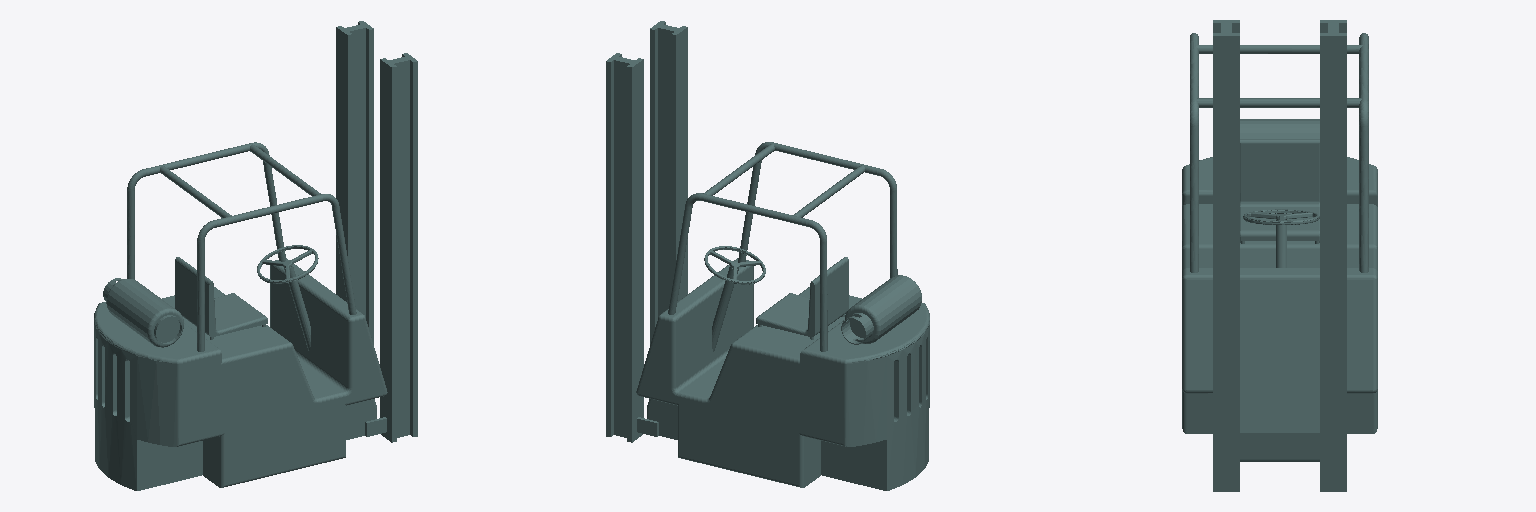
robot.urdf — forklift_robot:
<?xml version="1.0"?>
<robot name="forklift_robot">
  <link name="base_link">
    <origin xyz="-1.0795 -0.5334 0" rpy="0 0 0" />
    <visual>
      <geometry>
        <mesh filename="package://meshes/base_link.dae"/> 
      </geometry>
      <material name="grey">
        <color rgba="0.4 0.5 0.5 1"/>
      </material>
    </visual>
    <collision>
      <origin xyz="0 0 1.3716" rpy="0 0 0" />
      <geometry>
        <box size="2.159 1.0668 2.7432"/>
      </geometry>
    </collision>
    <inertial>
      <mass value="500"/>
      <inertia ixx="206" ixy="0" ixz="-23" iyy="389" iyz="0" izz="316"/>
    </inertial>
  </link>
  
  <link name="fork">
    <origin xyz="1.0795 -0.368600 1" rpy="0 0 0" />
    <!-- <origin xyz="0 0.5 1" rpy="0 0 0" /> -->
    <visual>
      <geometry>
        <mesh filename="package://meshes/fork.dae"/> 
      </geometry>
      <material name="greylight">
        <color rgba="0.1 0.1 0.1 1"/>
      </material>
    </visual>
    <collision>
      <geometry>
        <mesh filename="package://meshes/fork.dae"/> 
      </geometry>
    </collision>
    <inertial>
      <mass value="100"/>
      <inertia ixx="0.2" ixy="0" ixz="0" iyy="0.3" iyz="0" izz="0.4"/>
    </inertial>
  </link>

  <link name="wheel_back_left">
    <origin xyz="-0.9897 -0.5334 0" rpy="0 0 0" />
    <visual>
      <geometry>
        <mesh filename="package://meshes/wheel.dae"/> 
      </geometry>
    </visual>
    <collision>
      <geometry>
        <mesh filename="package://meshes/wheel.dae"/> 
      </geometry>
    </collision>
    <inertial>
      <mass value="5"/>
      <inertia ixx="0.001" ixy="0" ixz="0" iyy="0.0015" iyz="0" izz="0.001"/>
    </inertial>
  </link>
  
  <link name="wheel_back_right">
    <origin xyz="-0.9897 0.3302 0" rpy="0 0 0" />
    <visual>
      <geometry>
        <mesh filename="package://meshes/wheel.dae"/> 
      </geometry>
    </visual>
    <collision>
      <geometry>
        <mesh filename="package://meshes/wheel.dae"/> 
      </geometry>
    </collision>
    <inertial>
      <mass value="5"/>
      <inertia ixx="0.001" ixy="0" ixz="0" iyy="0.0015" iyz="0" izz="0.001"/>
    </inertial>
  </link>
  
  <link name="wheel_front_left">
    <origin xyz="0.469 -0.5334 0" rpy="0 0 0" />
    <visual>
      <geometry>
        <mesh filename="package://meshes/wheel.dae"/> 
      </geometry>
    </visual>
    <collision>
      <geometry>
        <mesh filename="package://meshes/wheel.dae"/> 
      </geometry>
    </collision>
    <inertial>
      <mass value="5"/>
      <inertia ixx="0.001" ixy="0" ixz="0" iyy="0.0015" iyz="0" izz="0.001"/>
    </inertial>
  </link>
  
  <link name="wheel_front_right">
    <origin xyz="0.469 0.3302 0" rpy="0 0 0" />
    <visual>
      <geometry>
        <mesh filename="package://meshes/wheel.dae"/> 
      </geometry>
    </visual>
    <collision>
      <geometry>
        <mesh filename="package://meshes/wheel.dae"/> 
      </geometry>
    </collision>
    <inertial>
      <mass value="5"/>
      <inertia ixx="0.001" ixy="0" ixz="0" iyy="0.0015" iyz="0" izz="0.001"/>
    </inertial>
  </link>

  <joint name="base_to_fork" type="prismatic">
   <origin xyz="2 0.2 0" rpy="0 0 0" />
    <parent link="base_link"/>
    <child link="fork"/>
    <limit 
      lower="0" 
      upper="2" 
      velocity="0.1"
      effort="100"
    />
    <axis xyz="0 0 1"/>
  </joint>

  <joint name="base_to_wheel_back_left" type="revolute">
    <origin xyz="0 .90 0" rpy="0 0 0" />
    <parent link="base_link"/>
    <child link="wheel_back_left"/>
    <limit 
      velocity="10"
      effort="1000"
    />
    <axis xyz="0 1 0"/>
  </joint>

  <joint name="base_to_wheel_back_right" type="revolute">
    <origin xyz="0 0 0" rpy="0 0 0" />
    <parent link="base_link"/>
    <child link="wheel_back_right"/>
    <limit 
      velocity="10"
      effort="1000"
    />
    <axis xyz="0 1 0"/>
  </joint>

  <joint name="base_to_wheel_front_left" type="revolute">
    <origin xyz="1.55 0.90 0" rpy="0 0 0" />
    <parent link="base_link"/>
    <child link="wheel_front_left"/>
    <limit 
      velocity="10"
      effort="1000"
    />
    <axis xyz="0 1 0"/>
  </joint>

  <joint name="base_to_wheel_front_right" type="revolute">
    <origin xyz="1.55 0 0" rpy="0 0 0" />
    <parent link="base_link"/>
    <child link="wheel_front_right"/>
    <limit 
      velocity="10"
      effort="1000"
    />
    <axis xyz="0 1 0"/>
  </joint>

  <sensor name="camera_sensor" update_rate="20">
    <parent link="base_link"/>
    <origin xyz="0 0 1.5" rpy="0 0 0" />
    <camera>
      <image width="640" height="480" hfov="1.5708" format="RGB8" near="0.01" far="50.0"/>
    </camera>
  </sensor>

  <sensor name="ray_sensor" update_rate="20">
   <parent link="basse_link"/>
   <origin xyz="0 0 1.5" rpy="0 0 0"/>
   <ray>
     <horizontal samples="100" resolution="1" min_angle="-1.5708" max_angle="1.5708"/>
     <vertical samples="1" resolution="1" min_angle="0" max_angle="0"/>
   </ray>
 </sensor>
</robot>

--- Render facts (derived) ---
Views: 3 orthographic renders of the robot side by side, from view 1: azimuth 30°, elevation 25°; view 2: azimuth 150°, elevation 25°; view 3: azimuth 270°, elevation 25°.
Robot: forklift_robot — 6 links, 5 joints (4 revolute, 1 prismatic); root link base_link; default pose: every joint at zero.
Links seen in each view (by area): view 1: base_link; view 2: base_link; view 3: base_link.
Link boxes in pixels (x1=…): base_link: x1=94, y1=21, x2=417, y2=490; base_link: x1=606, y1=21, x2=929, y2=490; base_link: x1=1182, y1=20, x2=1377, y2=491.
Bounding box of the posed robot: 2.16 × 1.07 × 2.74 m (x, y, z).
Meshes: 3 distinct files referenced, 1 mesh visuals loaded (1 Collada DAE); not drawn: 5 (reference not matched to a file when rendering).